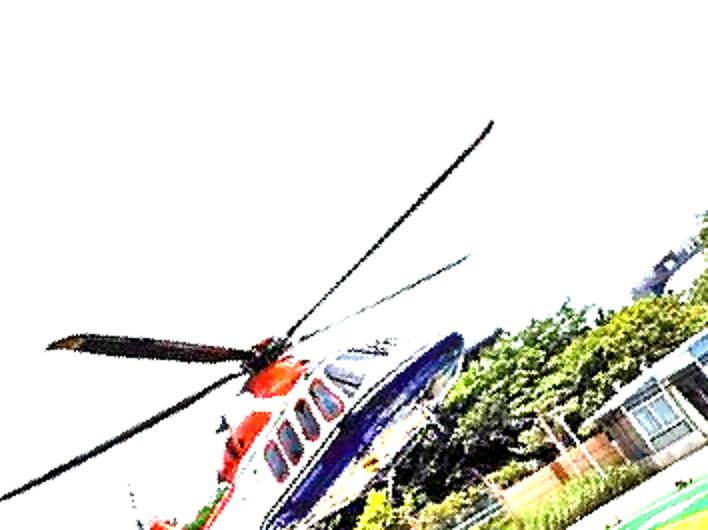Apron: (612, 495, 708, 530)
